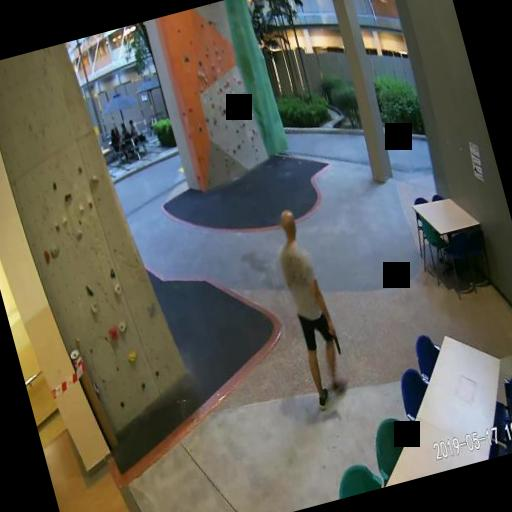Handgun: (322, 322, 342, 357)
